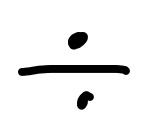div: (18, 31, 130, 111)
